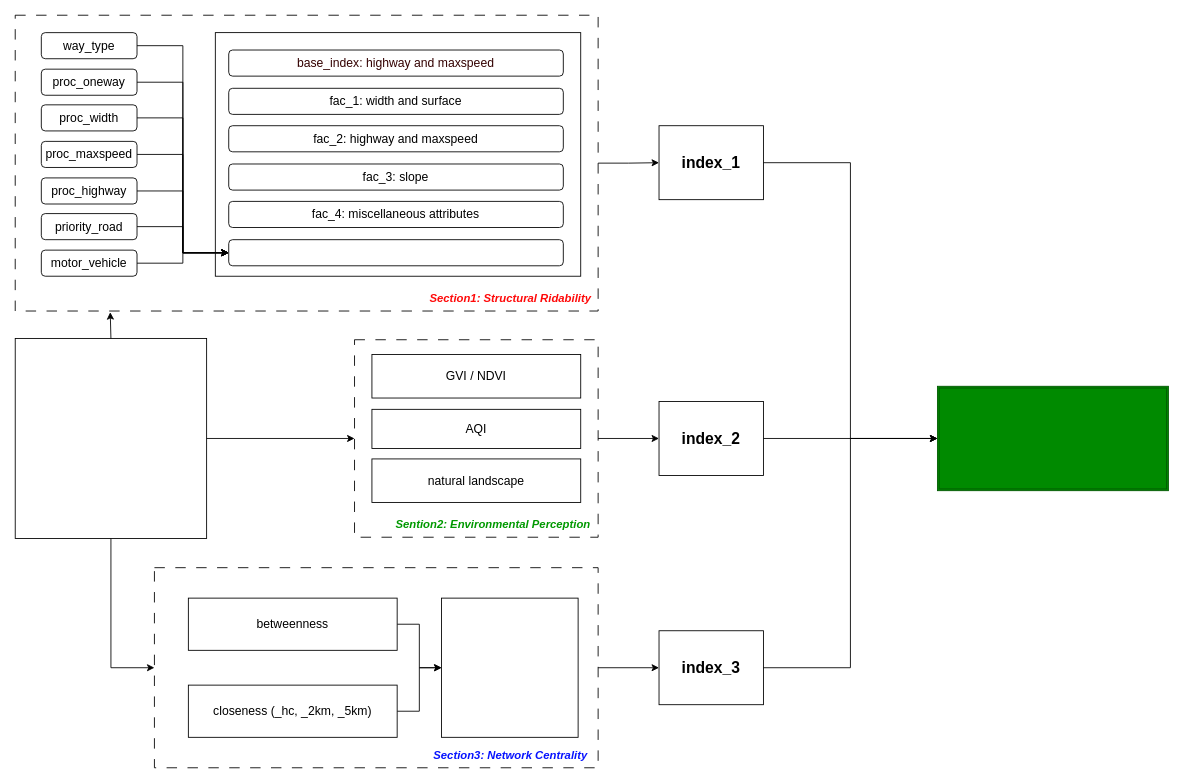
This 1184x783 diagram has some shape labels left out. Each missing label, with the centre of its shape:
"CECI" belongs at [1052,438].
"Data preprocessing" belongs at [110,438].
"fac_5: LTS" belongs at [395,252].
"Network Centrality" belongs at [509,667].
